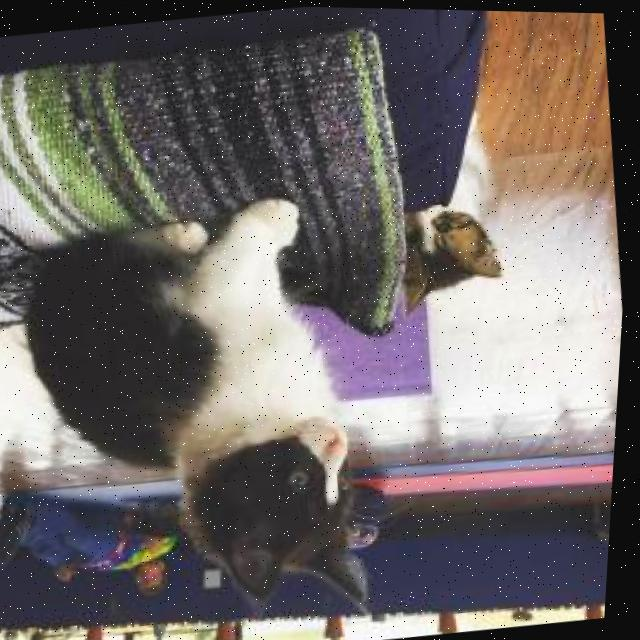Tuxedo: (0, 176, 405, 640)
